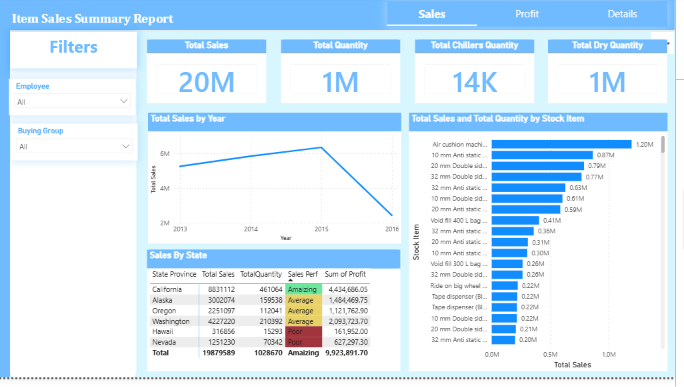

The dashboard page shown, as its layout file describes it:
{"tool":"powerbi","page":{"name":"Sales","canvas":[1280,720],"ordinal":0},"visuals":[{"type":"shape","box":[0,0,1280,65],"z":0},{"type":"shape","box":[0,59.1,22.7,660.9],"z":1000},{"type":"shape","box":[23.3,66.7,239.1,654.5],"z":2000},{"type":"textbox","box":[21.2,21.2,362.5,37.5],"z":3000},{"type":"cardVisual","title":"Total Sales","fields":{"Data":["Sum(FactSale.Total Excluding Tax)"]},"box":[282.5,81.6,225.5,120],"z":4000},{"type":"textbox","box":[22.5,65.5,240,69.1],"z":5000},{"type":"lineChart","fields":{"Category":["DimDate.Date.Variation.Date Hierarchy.Year","DimDate.Date.Variation.Date Hierarchy.Quarter","DimDate.Date.Variation.Date Hierarchy.Month","DimDate.Date.Variation.Date Hierarchy.Day"],"Y":["Sum(FactSale.Total Excluding Tax)"]},"box":[283.3,220,478.6,247.1],"z":6000},{"type":"barChart","fields":{"Category":["DimStockItem.Stock Item"],"Y":["Sum(FactSale.Total Excluding Tax)"]},"box":[776.7,220,488.3,488.3],"z":7000},{"type":"pivotTable","title":"Sales By State","fields":{"Rows":["DimCity.State Province"],"Values":["Sum(FactSale.Total Excluding Tax)","Sum(FactSale.Quantity)","FactSale.Sales Perf","Sum(FactSale.Profit)"]},"box":[281.7,478.3,478.3,230],"z":8000},{"type":"slicer","fields":{"Values":["DimEmployee.Employee"]},"box":[20.9,155.5,239,69.1],"z":9000},{"type":"slicer","fields":{"Values":["DimCustomer.Buying Group"]},"box":[24.6,240,239,69],"z":12000},{"type":"cardVisual","title":"Total Quantity","fields":{"Data":["Sum(FactSale.Quantity)"]},"box":[534.8,81,225.5,120],"z":13000},{"type":"cardVisual","title":"Total Chillers Quantity","fields":{"Data":["Sum(FactSale.Total Chiller Items)"]},"box":[787.2,81,225.5,120],"z":14000},{"type":"cardVisual","title":"Total Dry Quantity","fields":{"Data":["Sum(FactSale.Total Dry Items)"]},"box":[1039.5,81,225.5,120],"z":15000},{"type":"shape","box":[363.1,21.2,20.6,41.2],"z":16000},{"type":"pageNavigator","box":[735,8.3,530,48.3],"z":17000}]}

Visuals, with their boxes in screenshot pixels (x1, y1, x2, y2), scaled from the page's 1280x720 canvas onto the 684x387 screenshot:
shape: <region>0, 0, 683, 35</region>
shape: <region>0, 32, 12, 386</region>
shape: <region>12, 36, 140, 386</region>
textbox: <region>11, 11, 205, 32</region>
"Total Sales" cardVisual: <region>151, 44, 271, 108</region>
textbox: <region>12, 35, 140, 72</region>
lineChart - DimDate.Date.Variation.Date Hierarchy.Year x DimDate.Date.Variation.Date Hierarchy.Quarter: <region>151, 118, 407, 251</region>
barChart - DimStockItem.Stock Item x Sum(FactSale.Total Excluding Tax): <region>415, 118, 676, 381</region>
"Sales By State" pivotTable: <region>151, 257, 406, 381</region>
slicer - DimEmployee.Employee: <region>11, 84, 139, 121</region>
slicer - DimCustomer.Buying Group: <region>13, 129, 141, 166</region>
"Total Quantity" cardVisual: <region>286, 44, 406, 108</region>
"Total Chillers Quantity" cardVisual: <region>421, 44, 541, 108</region>
"Total Dry Quantity" cardVisual: <region>555, 44, 676, 108</region>
shape: <region>194, 11, 205, 34</region>
pageNavigator: <region>393, 4, 676, 30</region>
